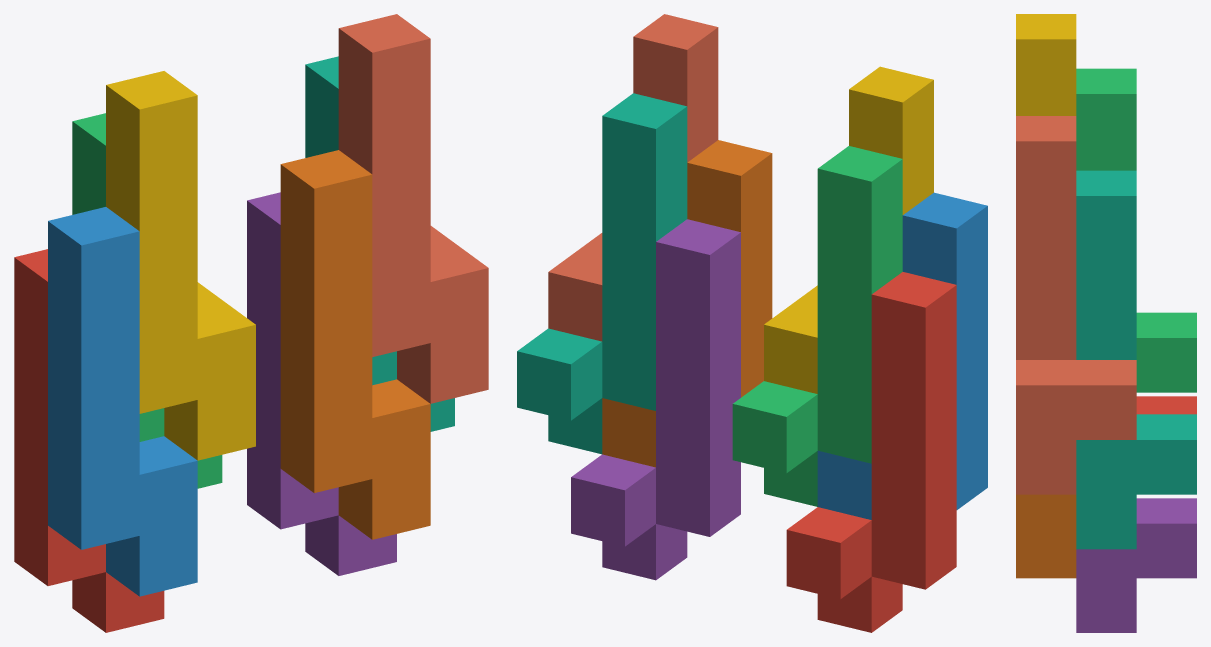
Rendered from tiling.obj.
3 renders of one model, left to right at view 1: azimuth 30°, elevation 25°; view 2: azimuth 150°, elevation 25°; view 3: azimuth 270°, elevation 25°, orthographic. The views are drawn at different scales.
Parts seen in each view (by area): view 1: copy_1_domain_6, copy_1_domain_2, copy_1_domain_8, copy_1_domain_4, copy_1_domain_1, copy_1_domain_5, copy_1_domain_3, copy_1_domain_7; view 2: copy_1_domain_1, copy_1_domain_5, copy_1_domain_3, copy_1_domain_7, copy_1_domain_2, copy_1_domain_6, copy_1_domain_8, copy_1_domain_4; view 3: copy_1_domain_8, copy_1_domain_7, copy_1_domain_3, copy_1_domain_5, copy_1_domain_4, copy_1_domain_6, copy_1_domain_1.
Boxes of the visible parts, x1,y1,x2,y2 form: copy_1_domain_6: (280,150,430,539); copy_1_domain_2: (48,207,197,596); copy_1_domain_8: (338,14,488,403); copy_1_domain_4: (106,71,255,460); copy_1_domain_1: (14,249,164,632); copy_1_domain_5: (247,192,396,575); copy_1_domain_3: (72,113,222,488); copy_1_domain_7: (305,56,454,431); copy_1_domain_1: (786,272,956,632); copy_1_domain_5: (571,219,740,580); copy_1_domain_3: (732,146,902,506); copy_1_domain_7: (517,93,687,454); copy_1_domain_2: (817,192,987,519); copy_1_domain_6: (602,140,772,467); copy_1_domain_8: (548,14,718,341); copy_1_domain_4: (764,66,933,393); copy_1_domain_8: (1016,116,1136,494); copy_1_domain_7: (1076,170,1196,549); copy_1_domain_3: (1076,68,1196,392); copy_1_domain_5: (1076,498,1196,632); copy_1_domain_4: (1016,14,1076,115); copy_1_domain_6: (1016,494,1076,578); copy_1_domain_1: (1136,396,1196,414).
Size of the model in its own units: 7 by 9 by 3.
